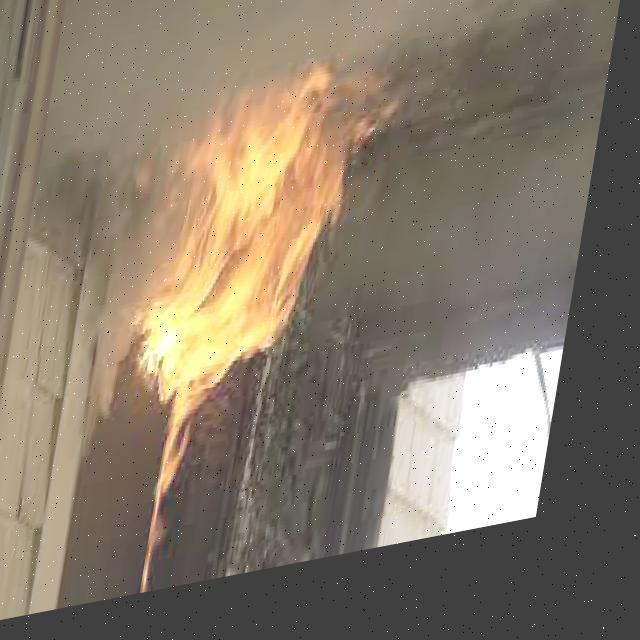Fire: (122, 53, 415, 437)
